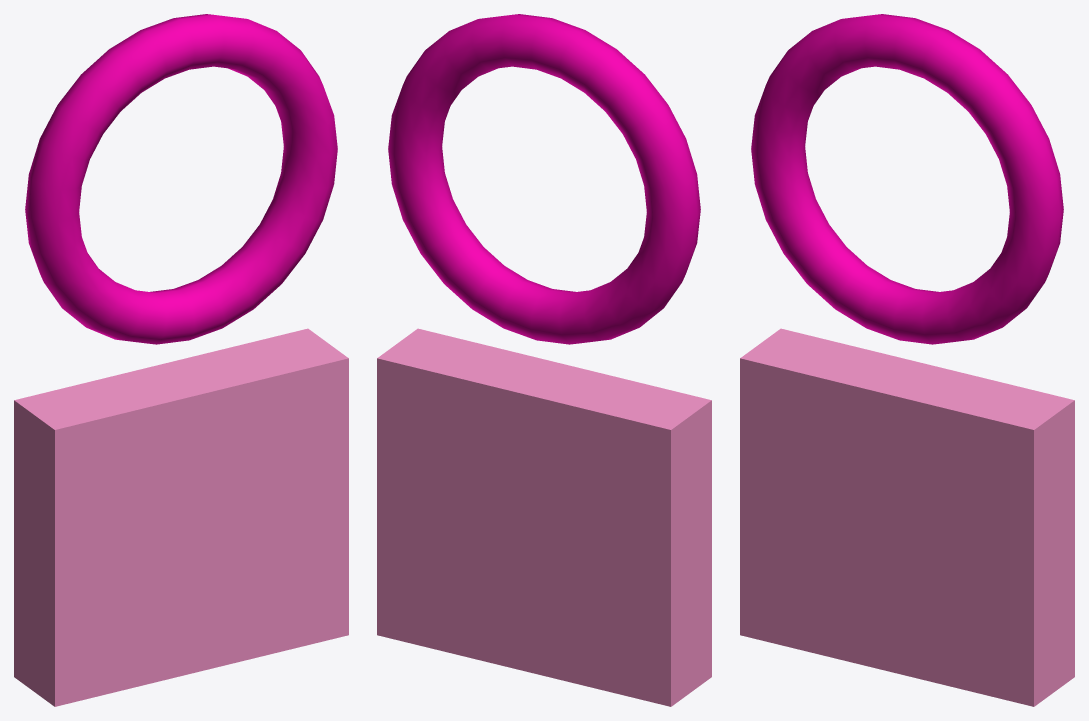
File: VM-DAM-SH40637891.glb
3 renders of one model, left to right at view 1: azimuth 30°, elevation 25°; view 2: azimuth 150°, elevation 25°; view 3: azimuth 330°, elevation 25°, orthographic.
Parts seen in each view (by area): view 1: Llavero Plástico Muñequera y Silbato; view 2: Llavero Plástico Muñequera y Silbato; view 3: Llavero Plástico Muñequera y Silbato.
Part boxes in pixels (x1,y1,x2,y2): Llavero Plástico Muñequera y Silbato: [14, 14, 348, 706]; Llavero Plástico Muñequera y Silbato: [377, 14, 711, 706]; Llavero Plástico Muñequera y Silbato: [740, 14, 1074, 706].
Bounding box in the file's own units: 0.0504 × 0.1004 × 0.0116.
